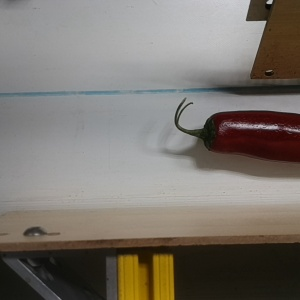Cut Point: (198, 112, 233, 155)
